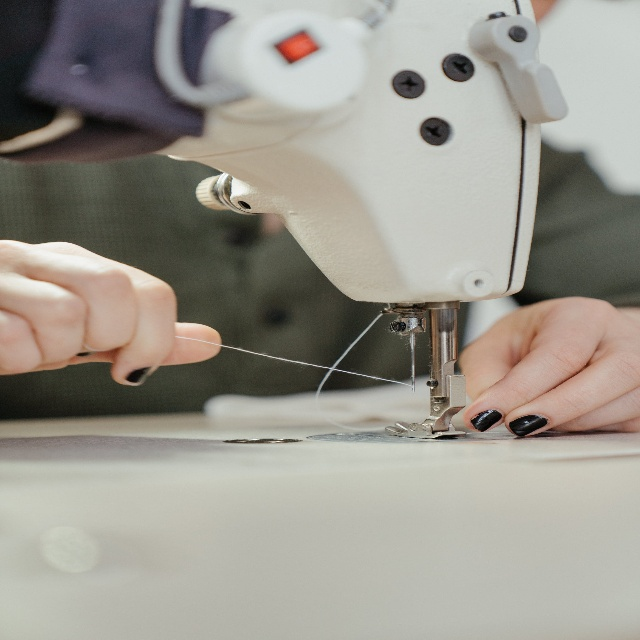Sin_guantes: (0, 235, 222, 387), (459, 294, 640, 441)
